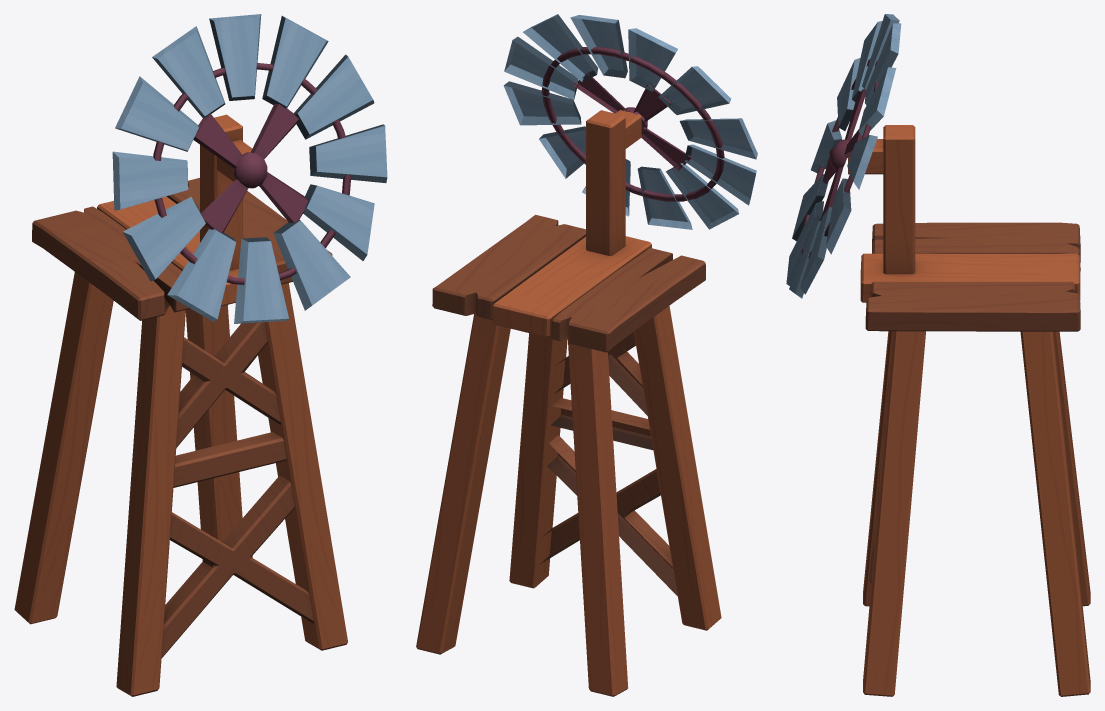
Rendered from mill_001.fbx.
The picture shows the model from 3 angles, left to right: view 1: azimuth 30°, elevation 25°; view 2: azimuth 150°, elevation 25°; view 3: azimuth 270°, elevation 25°; orthographic projection. The views are drawn at different scales.
Parts seen in each view (by area): view 1: mill_body_001, mill_spades_001; view 2: mill_body_001, mill_spades_001; view 3: mill_body_001, mill_spades_001.
Boxes of the visible parts, box(x1,y1,x2,y2) form: mill_body_001: box(14, 114, 347, 696); mill_spades_001: box(112, 14, 387, 323); mill_body_001: box(416, 109, 721, 696); mill_spades_001: box(503, 14, 757, 229); mill_body_001: box(848, 125, 1090, 696); mill_spades_001: box(786, 14, 901, 298).
Size of the model in its own units: 310 by 699 by 312.
